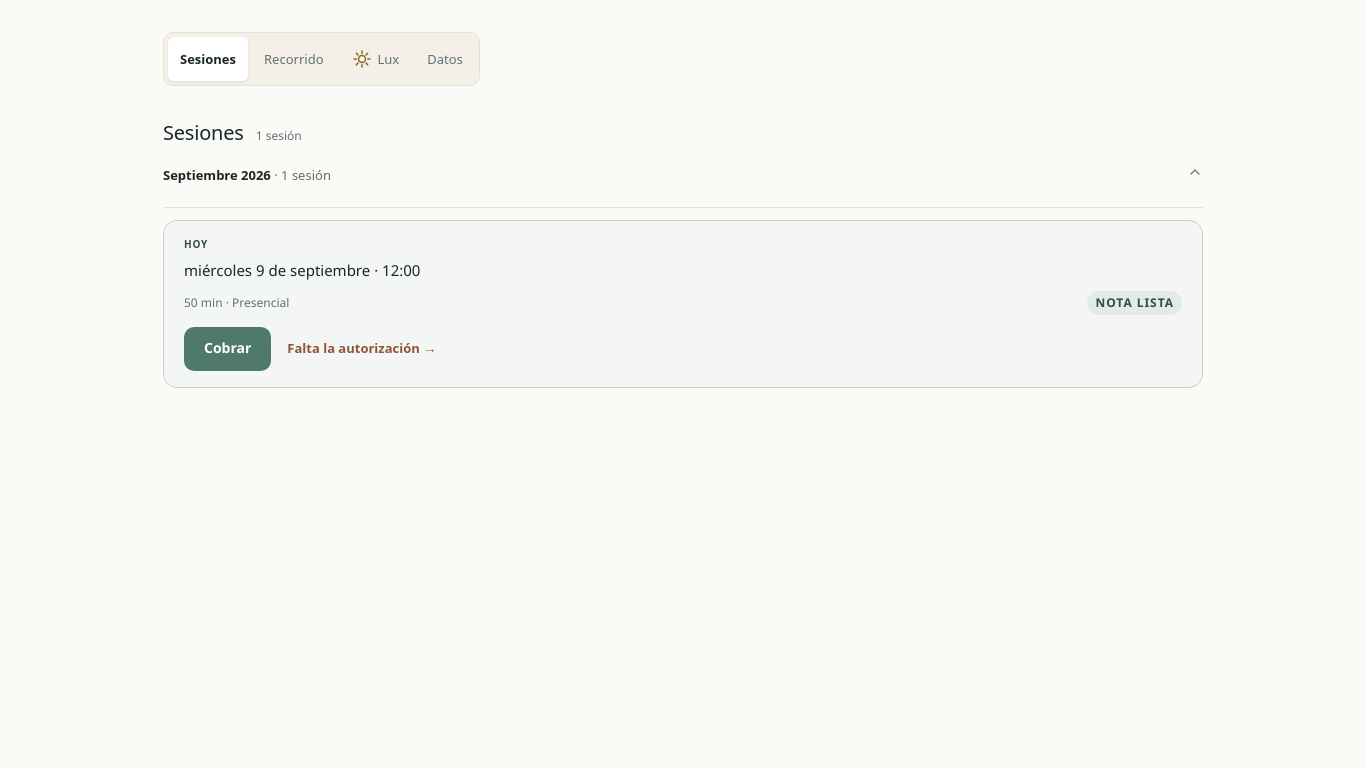
los avisos distinguen un rechazo de una operación confirmada › cobrar desde Sesiones comunica el resultado a la ficha: éxito=false
Step 1. Click the button "Cobrar" → x=228, y=348, box [184,326,271,370]
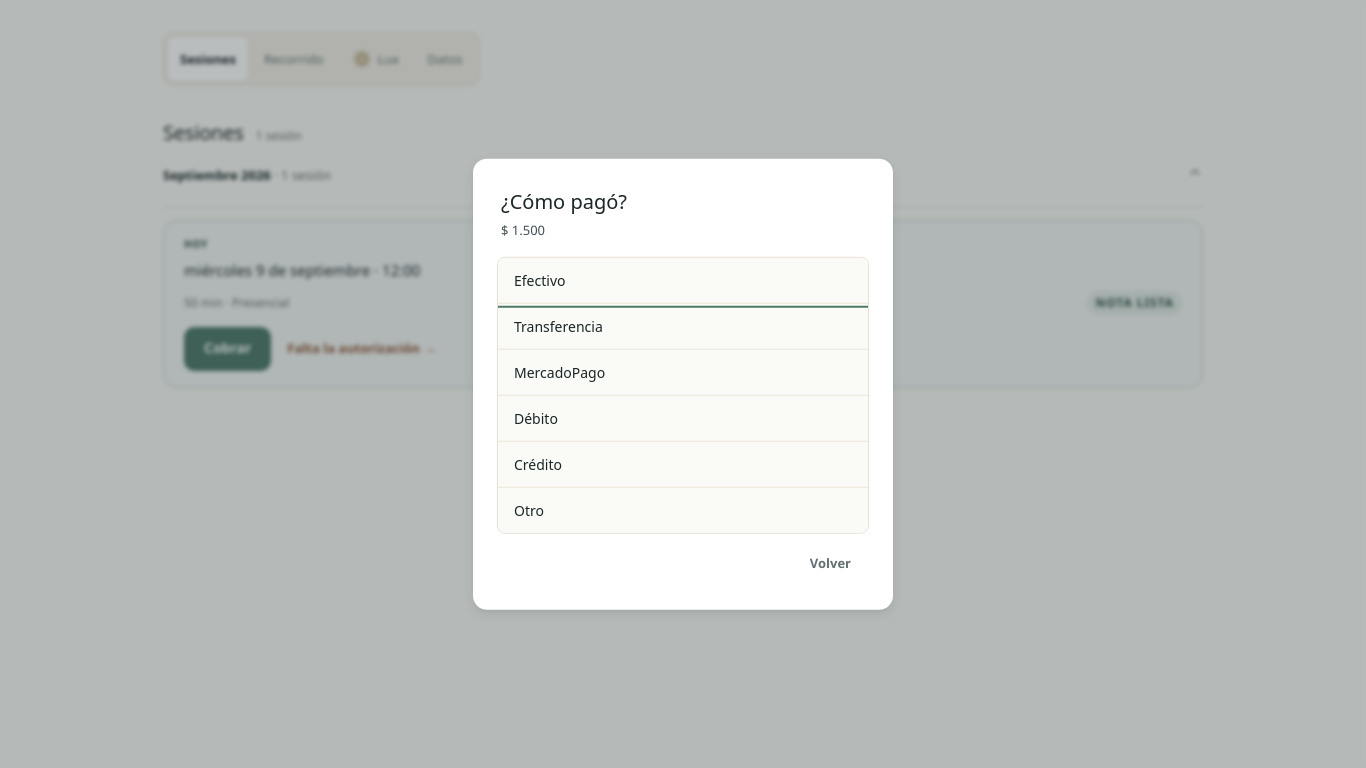
Step 2. Click the button "Efectivo" → x=540, y=280, box [498,257,868,303]
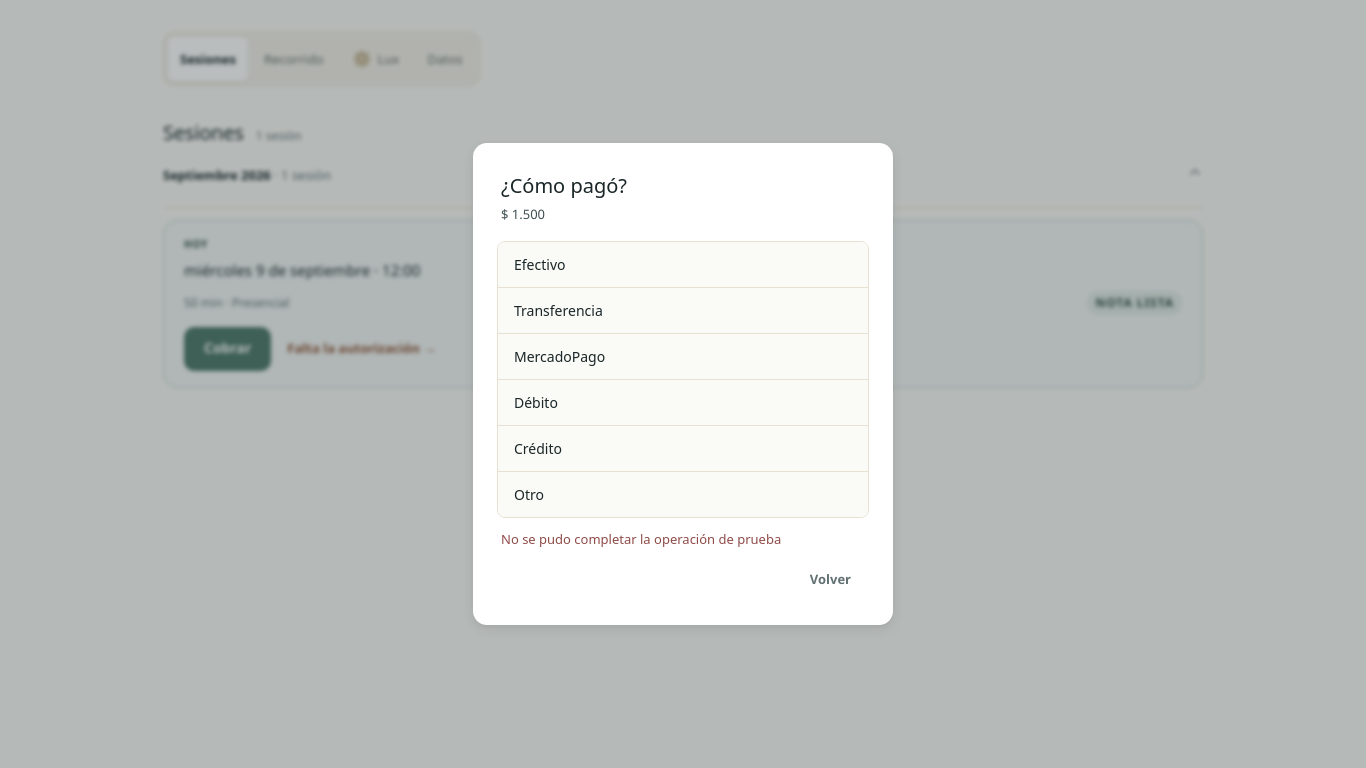
Expected: the message reads "No se pudo completar la operación de prueba", [501,530,781,548]
